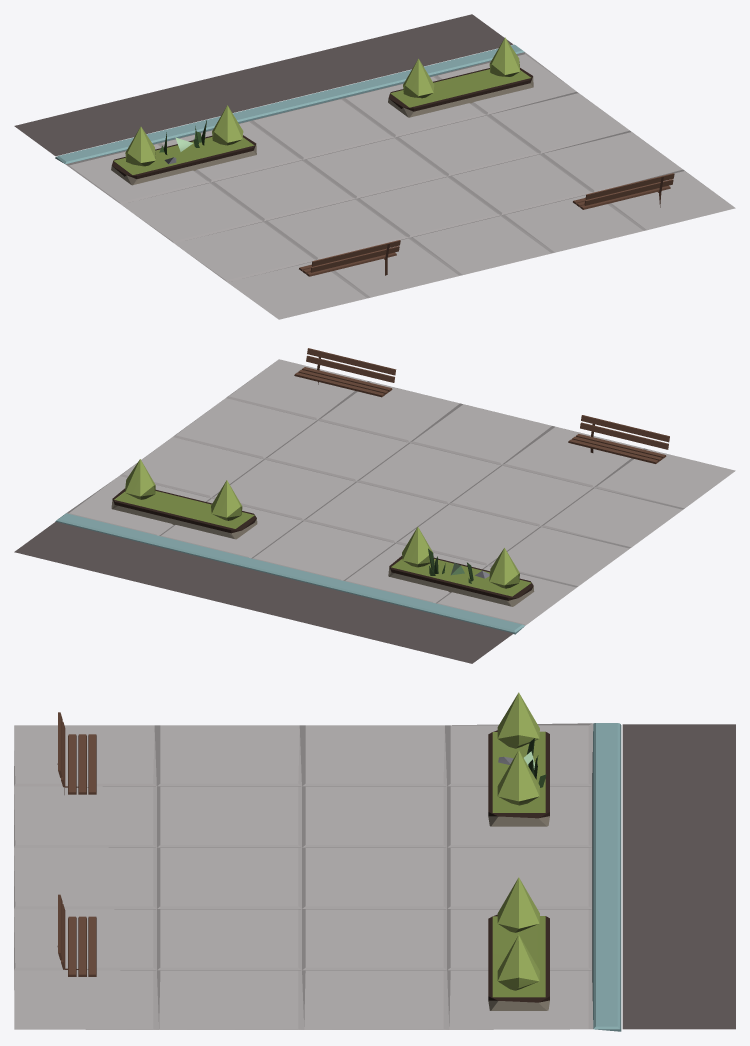
The model's file is QmTRSvsrgQNzmRqTXKux3yBQtEkpKF34yC11gQ8k3dY1bc_lod2.fbx.
3 renders of one model, top to bottom at view 1: azimuth 30°, elevation 25°; view 2: azimuth 150°, elevation 25°; view 3: azimuth 270°, elevation 25°, orthographic. The views are drawn at different scales.
Parts seen in each view (by area): view 1: Entity_512; view 2: Entity_512; view 3: Entity_512.
Boxes of the visible parts, x1,y1,x2,y2 form: Entity_512: (14,14,735,319); Entity_512: (14,348,735,663); Entity_512: (14,692,735,1031).
Size of the model in its own units: 16000 by 1591 by 15918.
1 material, 1 textured.
